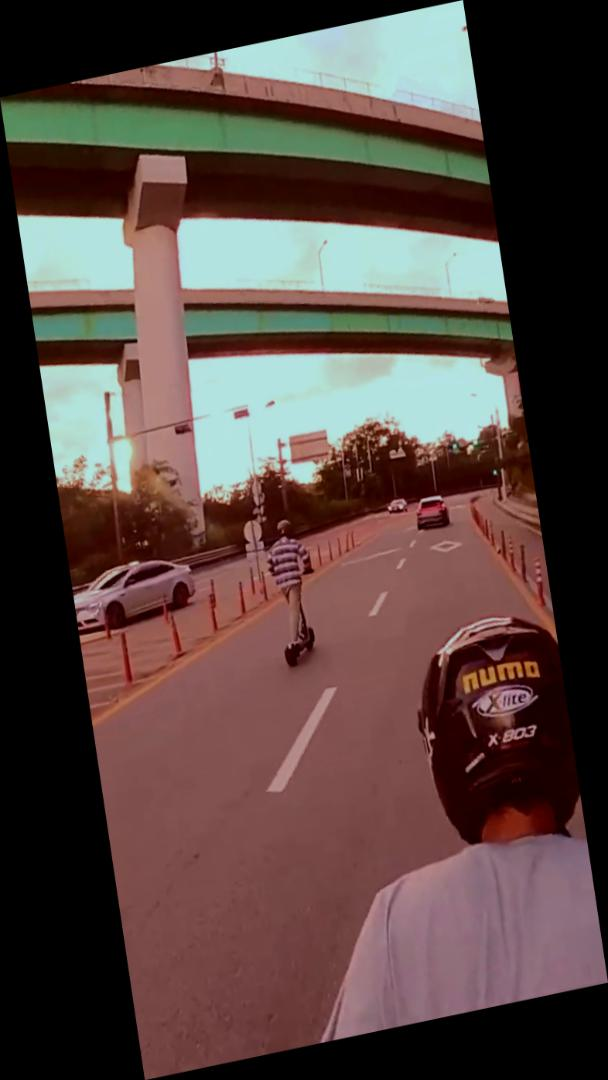helmet: (257, 509, 330, 671)
